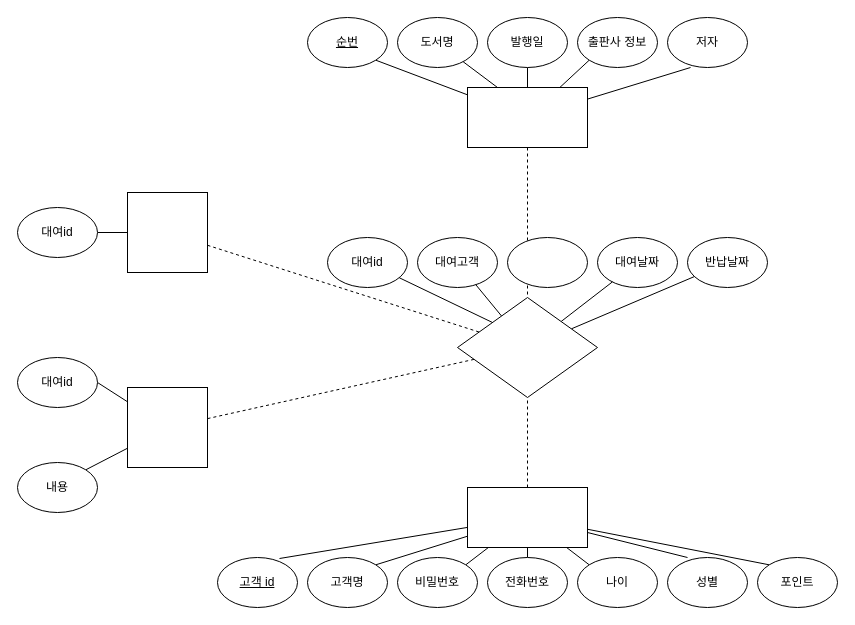
The diagram is 855 pixels wide and 625 high, and some of its shapes have lost their labels. Here are the shapes that lost their labels. From the top down, the box of each, then its label:
(466, 86, 588, 148): 도서목록
(126, 192, 208, 272): 인기도서목록
(506, 236, 588, 288): 대여도서
(456, 296, 598, 398): 도서대여대장
(126, 386, 208, 468): 독서후기
(466, 486, 588, 548): 고객정보관리
